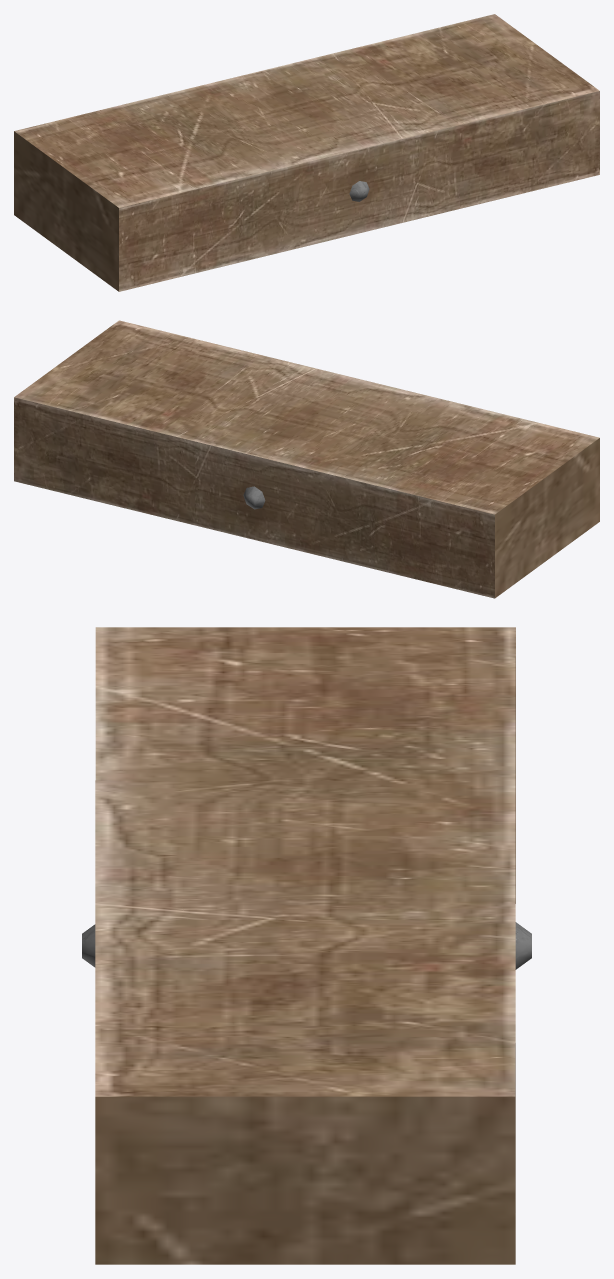
3 renders of one model, top to bottom at view 1: azimuth 30°, elevation 25°; view 2: azimuth 150°, elevation 25°; view 3: azimuth 270°, elevation 25°, orthographic. The views are drawn at different scales.
Parts seen in each view (by area): view 1: SM_BB_T3_Beam_Thin_Med_Horizontal_LOD0; view 2: SM_BB_T3_Beam_Thin_Med_Horizontal_LOD0; view 3: SM_BB_T3_Beam_Thin_Med_Horizontal_LOD0.
Boxes of the visible parts, <box> form: SM_BB_T3_Beam_Thin_Med_Horizontal_LOD0: <box>14,14,599,291</box>; SM_BB_T3_Beam_Thin_Med_Horizontal_LOD0: <box>14,320,599,598</box>; SM_BB_T3_Beam_Thin_Med_Horizontal_LOD0: <box>82,627,531,1264</box>.
Size of the model in its own units: 1.5 by 0.2505 by 0.6075.
Materials: 1 (1 with a texture image).
